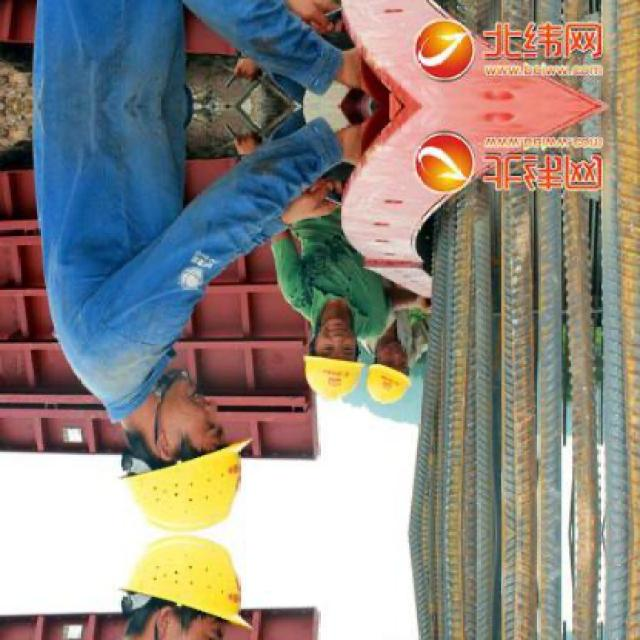con casco: (122, 399, 252, 522), (289, 308, 366, 410), (368, 326, 433, 395)
